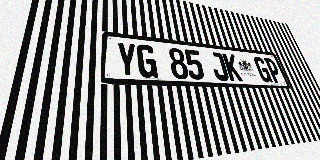5: (184, 49, 206, 80)
8: (168, 47, 189, 79)
G: (136, 44, 158, 78), (253, 56, 273, 83)
J: (209, 52, 230, 81)
K: (222, 53, 243, 81)
P: (263, 58, 283, 83)
Y: (116, 42, 138, 77)
